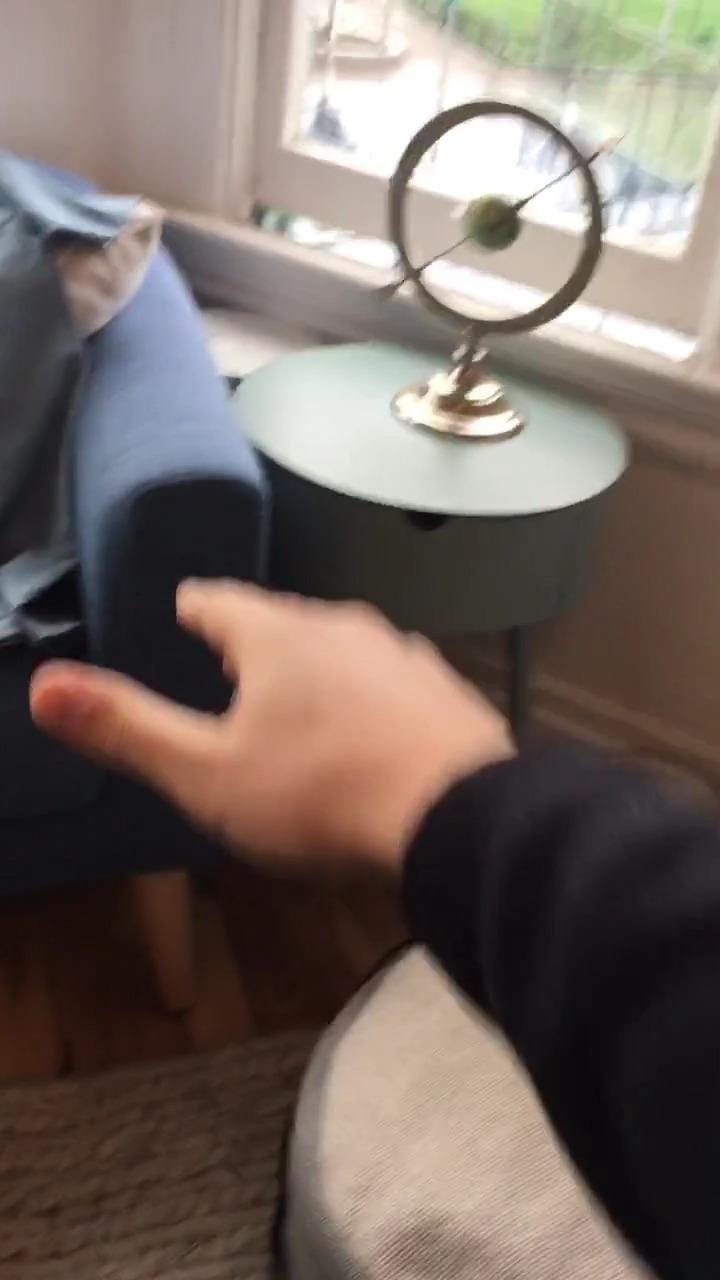Paper: (24, 574, 518, 864)
